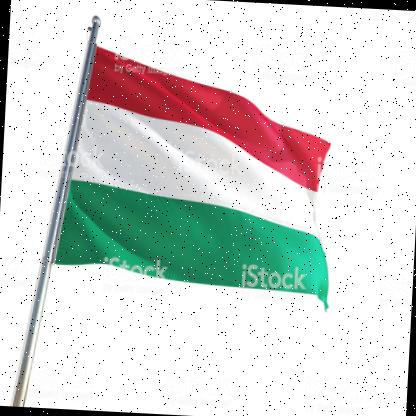hu: (51, 42, 337, 300)
